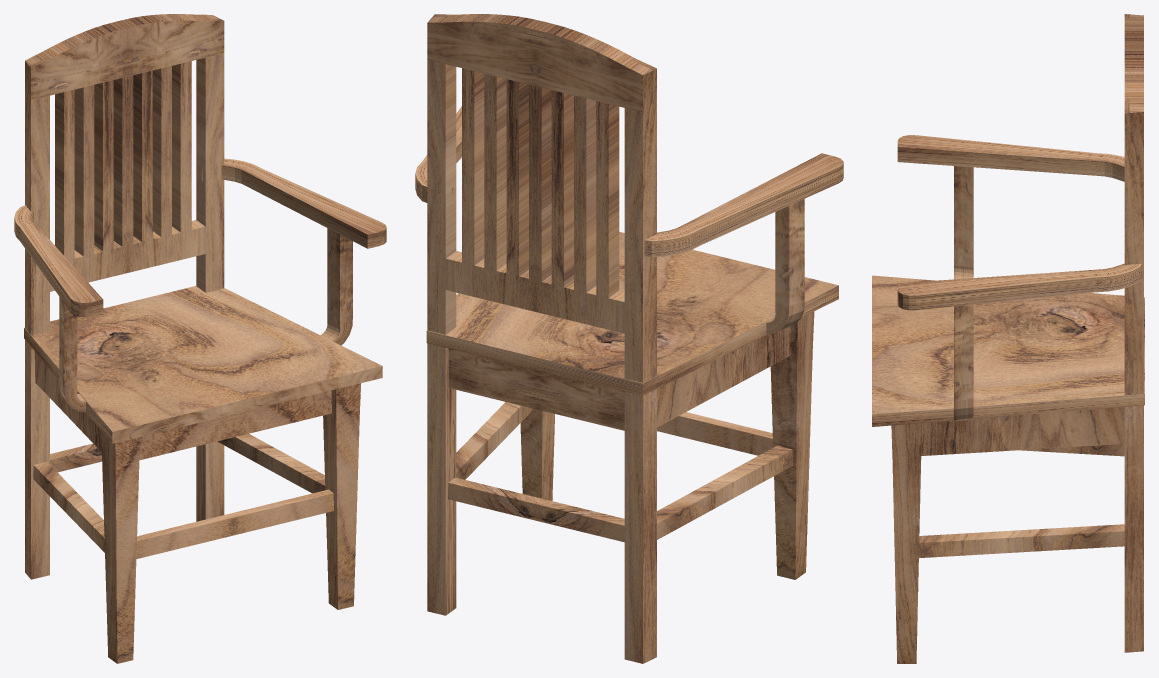
File: woode_chair.glb
3 renders of one model, left to right at view 1: azimuth 30°, elevation 25°; view 2: azimuth 150°, elevation 25°; view 3: azimuth 270°, elevation 25°, orthographic. The views are drawn at different scales.
Visible parts, largest first — view 1: Cube.003_2, Cube.001_0, Cube.002_1, Cube.005_4, Cube.004_3; view 2: Cube.003_2, Cube.002_1, Cube.001_0, Cube.005_4, Cube.004_3; view 3: Cube.001_0, Cube.002_1, Cube.003_2, Cube.005_4, Cube.004_3.
Part boxes in pixels (box(x1,y1,x2,y2)): Cube.003_2: box(25, 14, 224, 579); Cube.001_0: box(24, 286, 382, 443); Cube.002_1: box(33, 351, 361, 663); Cube.005_4: box(14, 158, 386, 316); Cube.004_3: box(59, 228, 352, 411); Cube.003_2: box(427, 14, 656, 663); Cube.002_1: box(448, 311, 814, 579); Cube.001_0: box(426, 232, 838, 395); Cube.005_4: box(415, 106, 843, 257); Cube.004_3: box(766, 199, 804, 334); Cube.001_0: box(872, 275, 1144, 426); Cube.002_1: box(891, 407, 1124, 663); Cube.003_2: box(1124, 14, 1143, 652); Cube.005_4: box(897, 135, 1141, 310); Cube.004_3: box(953, 166, 973, 421).
Size of the model in its own units: 3.54 by 5.73 by 2.54.
1 material, 1 textured.
